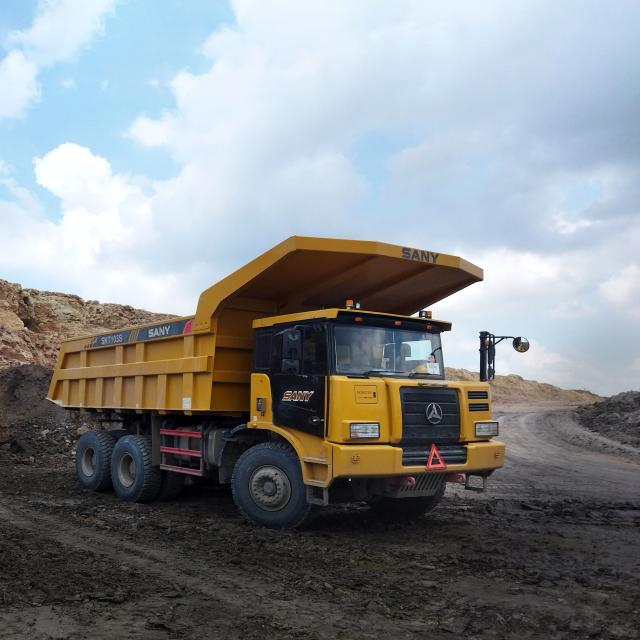truck: (48, 235, 532, 528)
